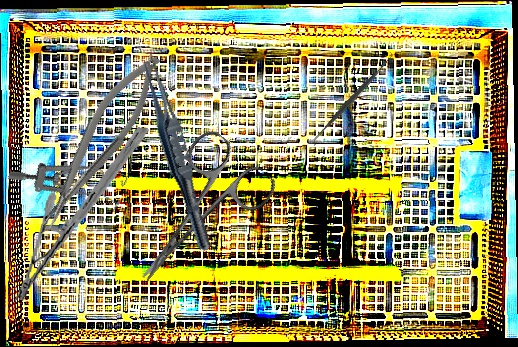Iris Scissors: (106, 124, 281, 308)
Needle Holder: (23, 46, 175, 236), (13, 114, 149, 314)
Spatula Surgical: (306, 49, 399, 149)
Speculum: (6, 133, 131, 223)
Tissue Forceps: (132, 51, 221, 255)
